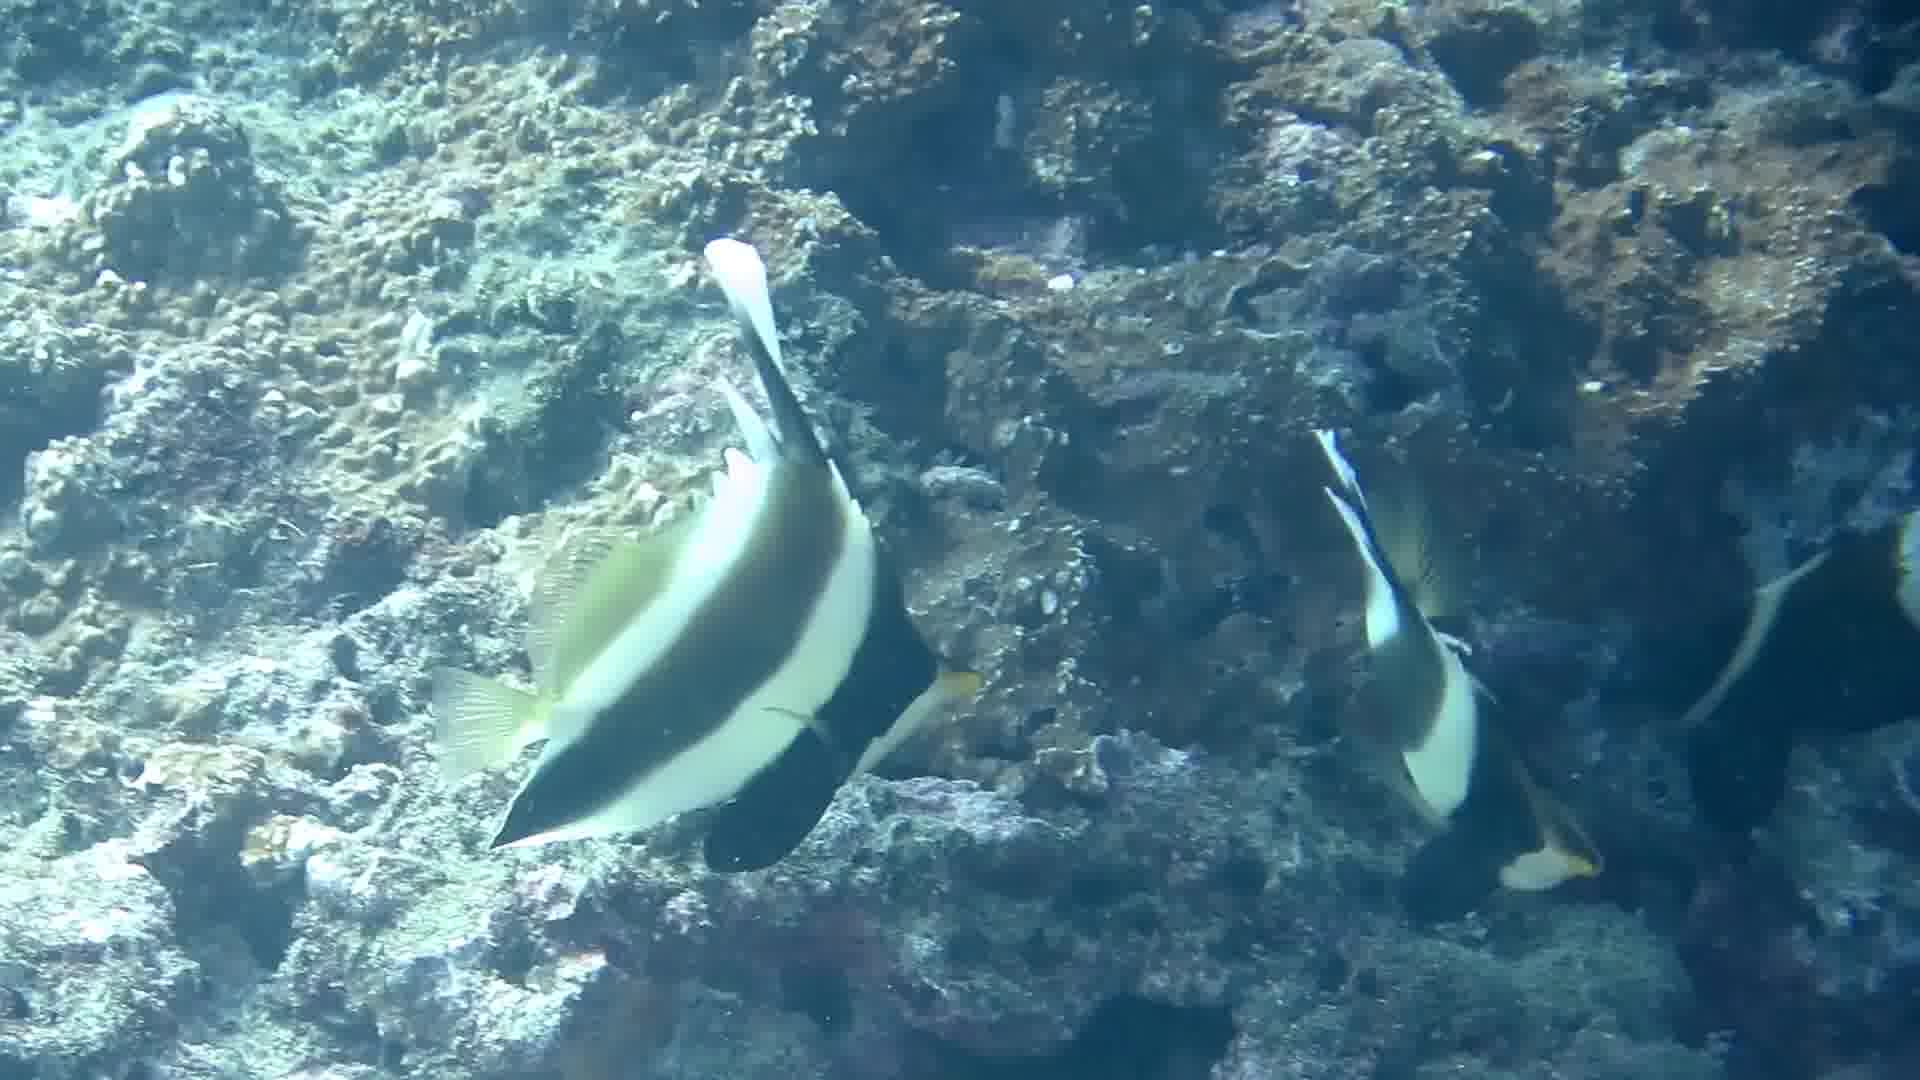Heniochus chrysostomus: (472, 173, 1014, 942), (1120, 231, 1662, 1000)
